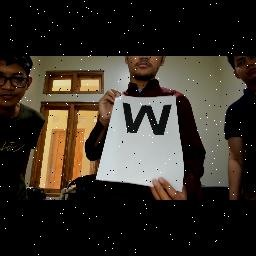w: (119, 98, 175, 142)
